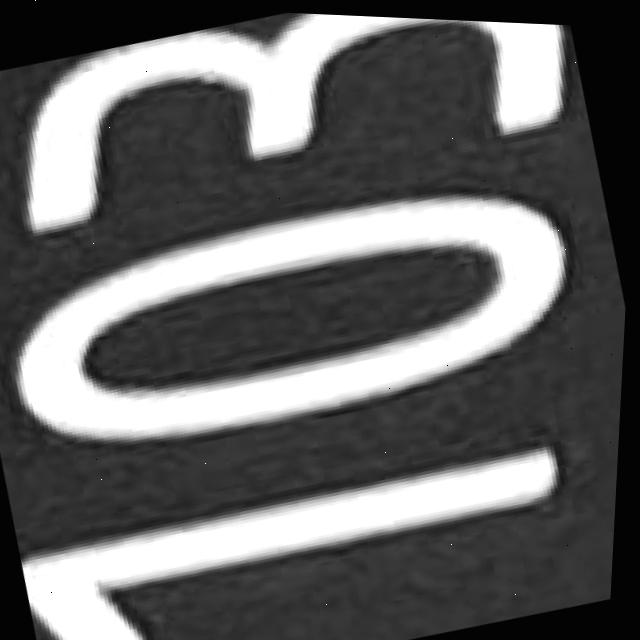character: (0, 128, 610, 510), (0, 0, 596, 271), (9, 395, 607, 640)
